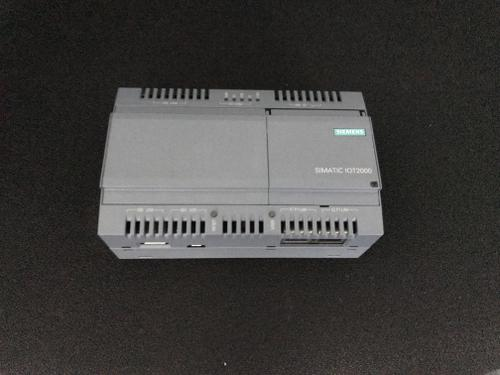device: (98, 88, 384, 259)
